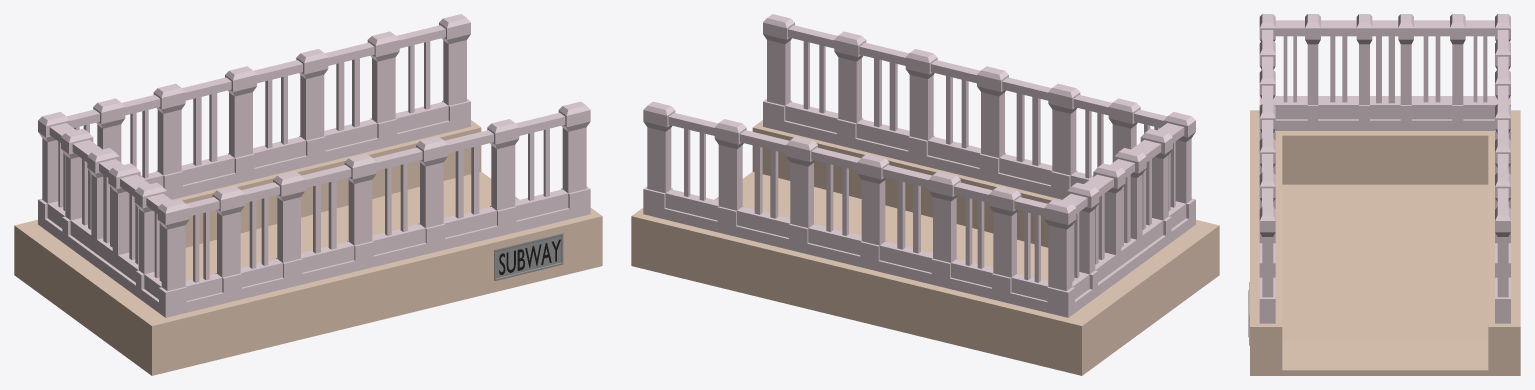
The model's file is SUBWAY_2.fbx.
3 renders of one model, left to right at view 1: azimuth 30°, elevation 25°; view 2: azimuth 150°, elevation 25°; view 3: azimuth 270°, elevation 25°, orthographic.
Parts seen in each view (by area): view 1: Pole.001, Body, Body.001, Sign, Text; view 2: Pole.001, Body, Body.001; view 3: Body.001, Body, Pole.001.
Part boxes in pixels (x1,y1,x2,y2): Pole.001: [38, 14, 590, 317]; Body: [14, 120, 602, 375]; Body.001: [185, 187, 455, 280]; Sign: [494, 233, 563, 280]; Text: [499, 239, 560, 274]; Pole.001: [643, 14, 1195, 317]; Body: [631, 120, 1219, 375]; Body.001: [778, 187, 1048, 280]; Body.001: [1282, 184, 1488, 340]; Body: [1250, 110, 1520, 375]; Pole.001: [1259, 14, 1510, 323].
Bounding box in the file's own units: 1317 × 442 × 701.
